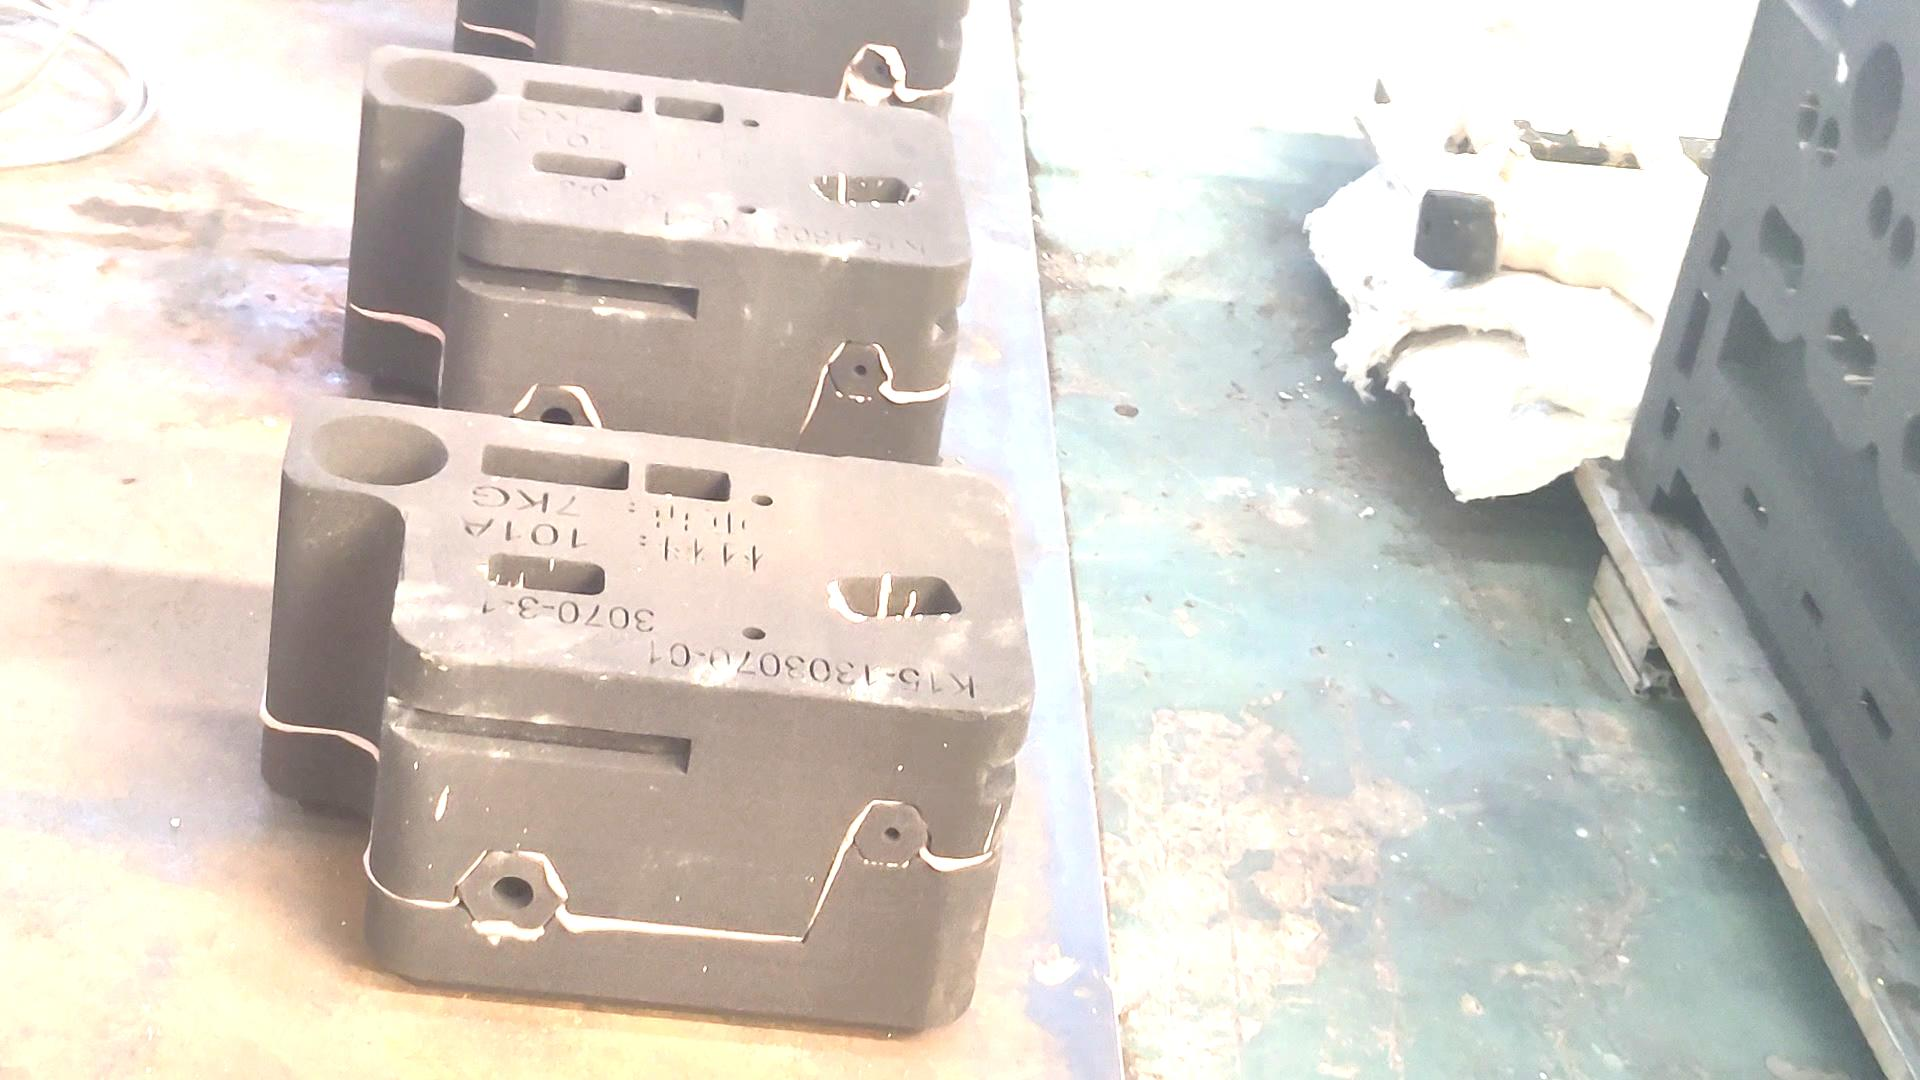pouring hole: (309, 413, 448, 488), (1849, 40, 1903, 161), (381, 55, 498, 108)
